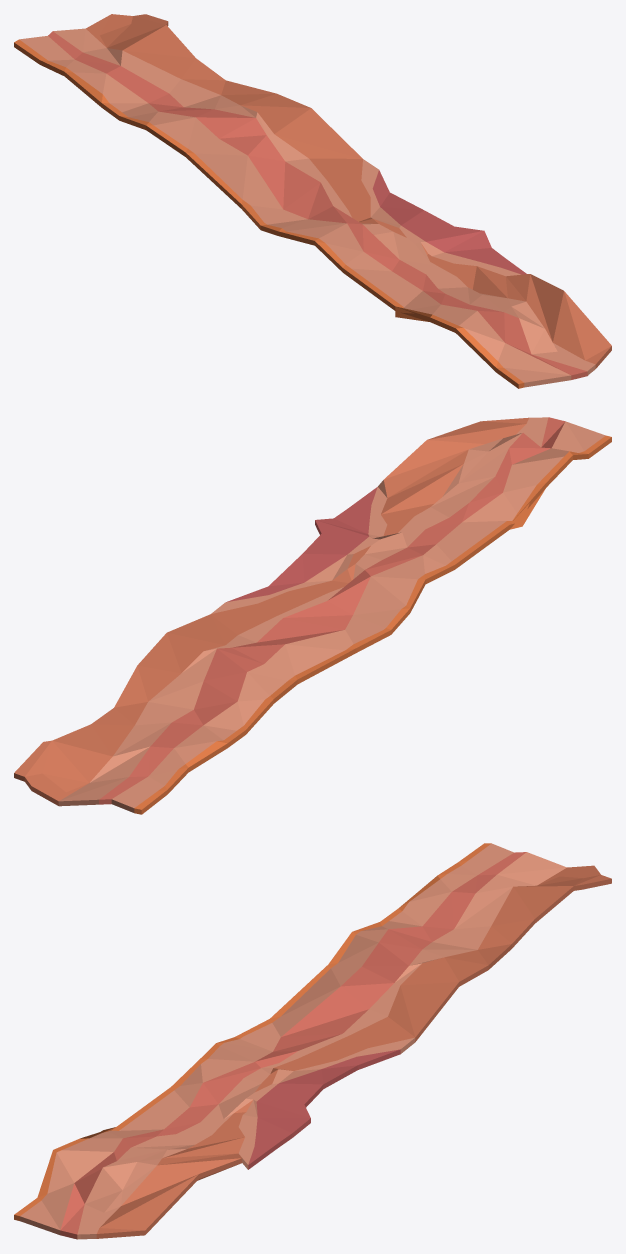
Rendered from BaconCooked.fbx.
3 views of the same model, one above another, from view 1: azimuth 30°, elevation 25°; view 2: azimuth 150°, elevation 25°; view 3: azimuth 330°, elevation 25° (orthographic). The views are drawn at different scales.
Parts seen in each view (by area): view 1: BaconCooked; view 2: BaconCooked; view 3: BaconCooked.
Part boxes in pixels (bbox=[...]): BaconCooked: bbox=[14, 14, 611, 388]; BaconCooked: bbox=[14, 417, 611, 814]; BaconCooked: bbox=[14, 843, 611, 1239].
Bounding box in the file's own units: 134 × 31.63 × 741.
